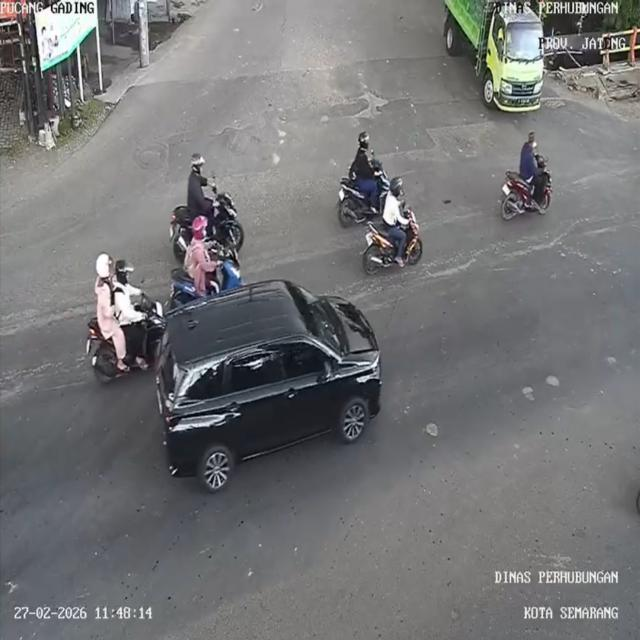motorcycle: (84, 311, 168, 381), (160, 204, 248, 253), (365, 223, 427, 278), (168, 264, 248, 300), (500, 169, 552, 218), (338, 176, 371, 228)
person: (184, 212, 220, 289), (86, 251, 120, 332), (184, 152, 218, 215), (114, 260, 145, 327), (382, 173, 407, 236), (516, 129, 544, 184), (353, 131, 374, 180)
rider_region: (86, 251, 168, 386), (168, 152, 244, 262), (170, 214, 244, 307), (361, 176, 424, 277), (498, 124, 552, 227), (337, 130, 390, 228)
